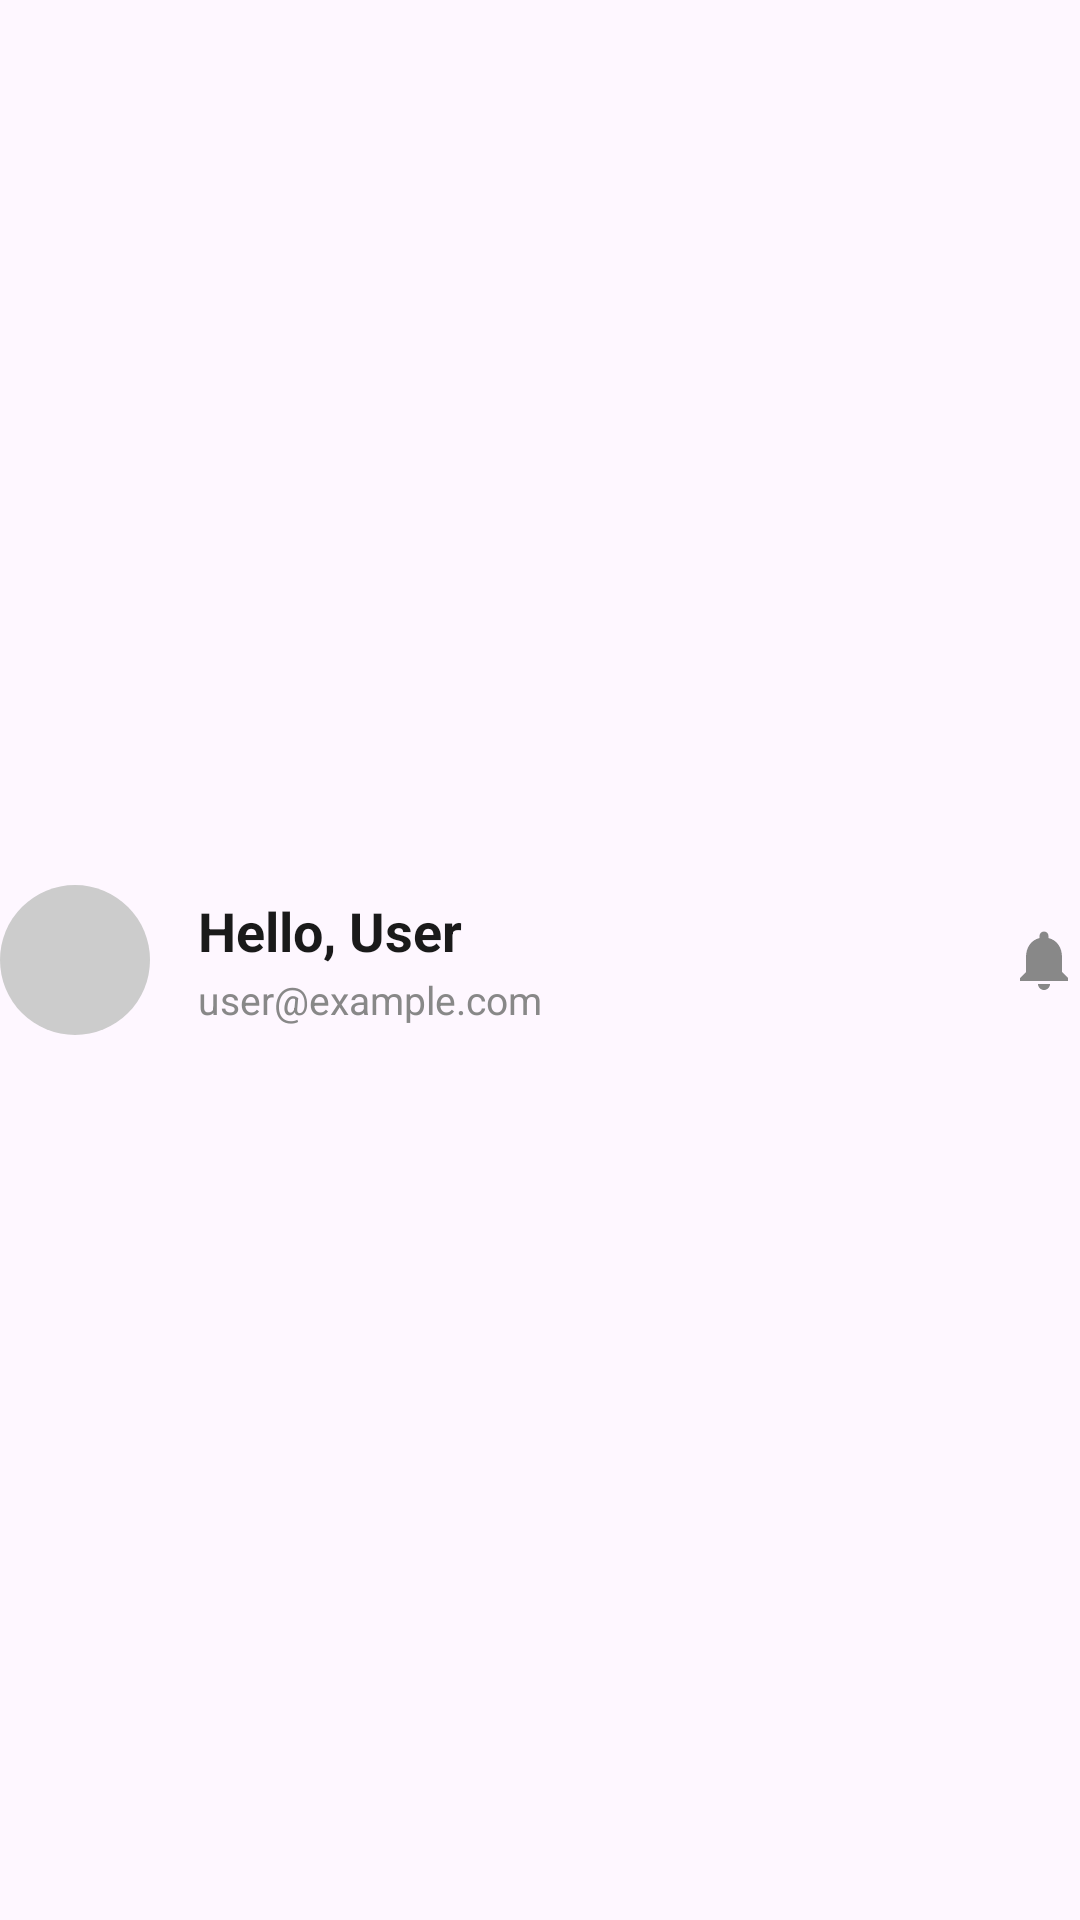

Point at icon controls on the screen. Image size 1080w x 1920h, points as point (x, y).
bell: point (1044, 960)
